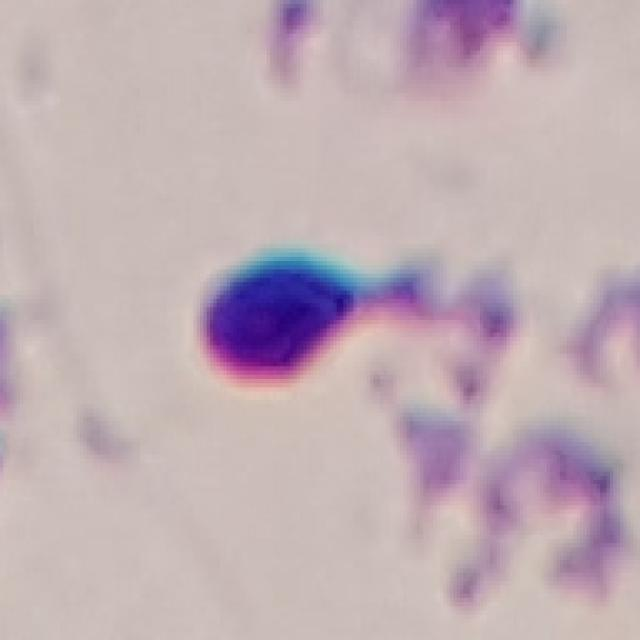normal sperm: (198, 245, 459, 385)
